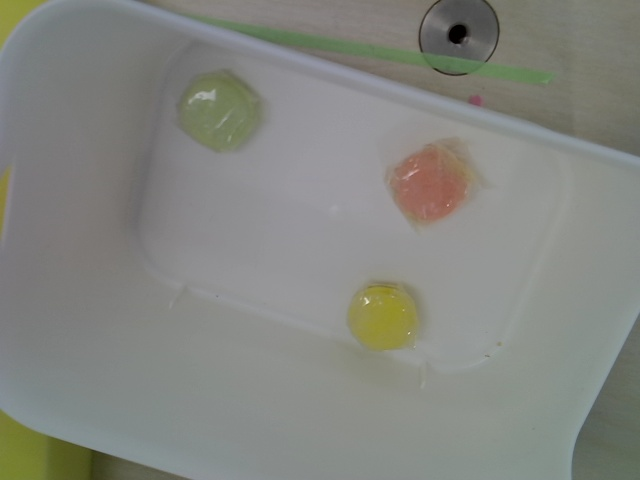씨앗: (387, 143, 474, 225), (177, 70, 260, 155), (346, 283, 423, 350)
